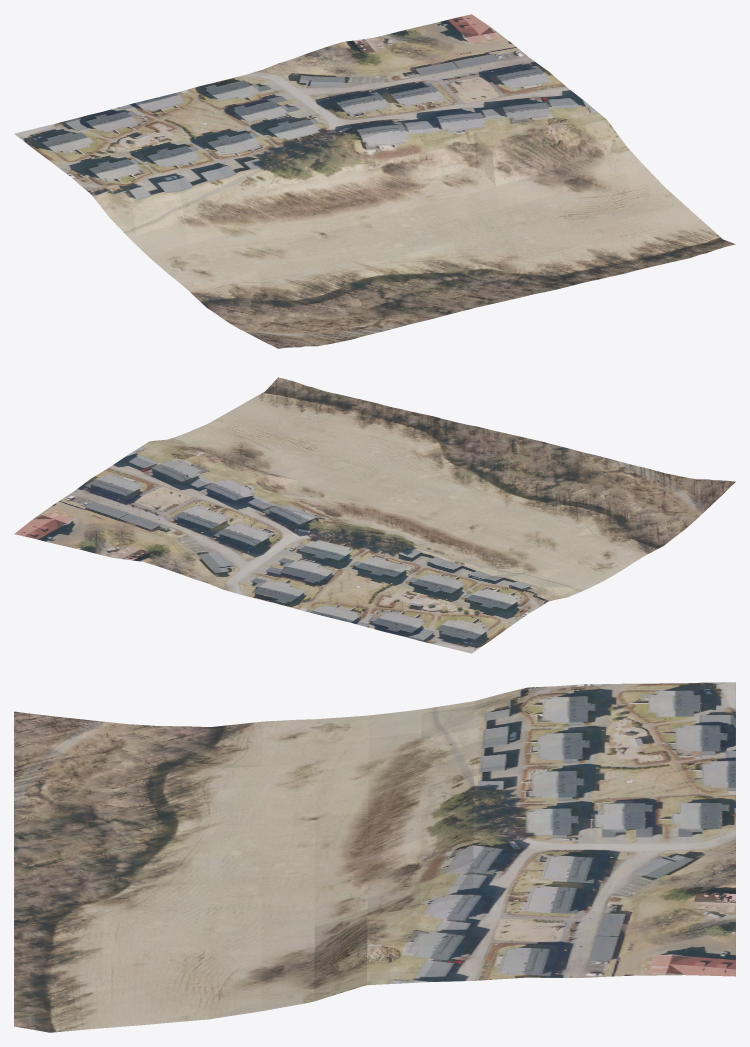
The model's file is CM_Terrain_24491482_6818156.fbx.
3 renders of one model, top to bottom at view 1: azimuth 30°, elevation 25°; view 2: azimuth 150°, elevation 25°; view 3: azimuth 270°, elevation 25°, orthographic. The views are drawn at different scales.
Visible parts, largest first — view 1: CM_Terrain_24491482_6818156_LOD0; view 2: CM_Terrain_24491482_6818156_LOD0; view 3: CM_Terrain_24491482_6818156_LOD0.
Part boxes in pixels (x1,y1,x2,y2): CM_Terrain_24491482_6818156_LOD0: (14,14,735,348); CM_Terrain_24491482_6818156_LOD0: (14,377,735,653); CM_Terrain_24491482_6818156_LOD0: (14,682,735,1032).
Size of what is drawn, in the model's own units: 205 by 19.27 by 205.
